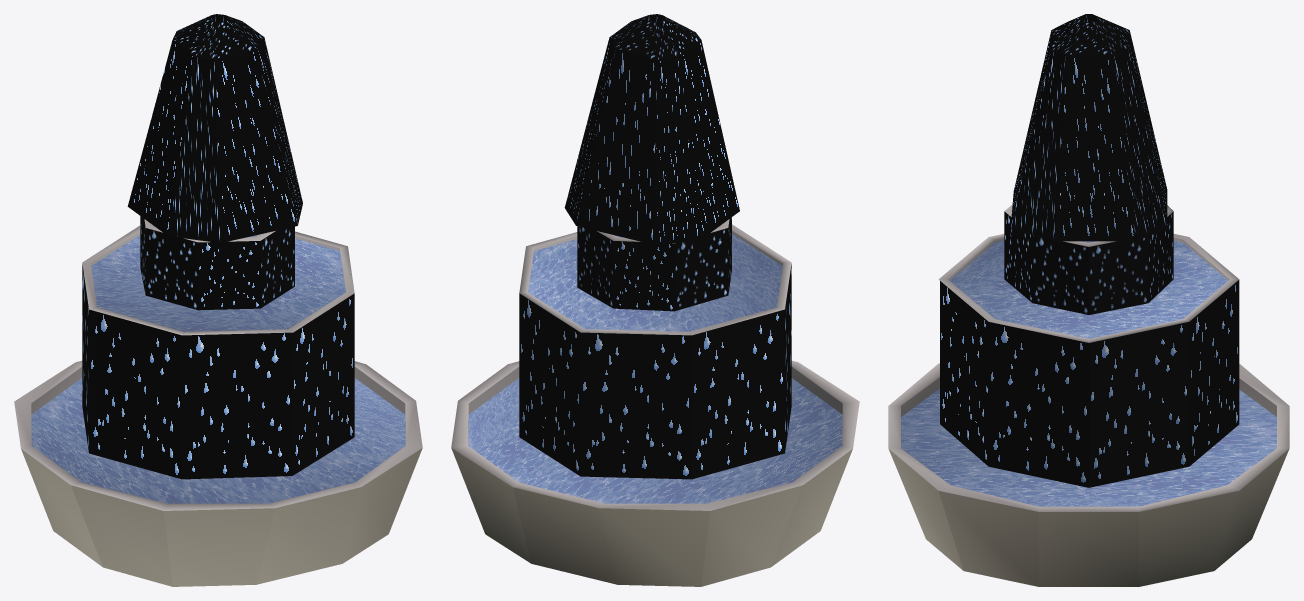
3 views of the same model, side by side, from view 1: azimuth 30°, elevation 25°; view 2: azimuth 150°, elevation 25°; view 3: azimuth 270°, elevation 25° (orthographic).
Parts seen in each view (by area): view 1: model; view 2: model; view 3: model.
Part boxes in pixels (x1,y1,x2,y2): model: (14, 14, 422, 586); model: (451, 14, 859, 586); model: (888, 14, 1289, 586).
Bounding box in the file's own units: 2 × 2.75 × 2.
Materials: 3 (2 with a texture image).
